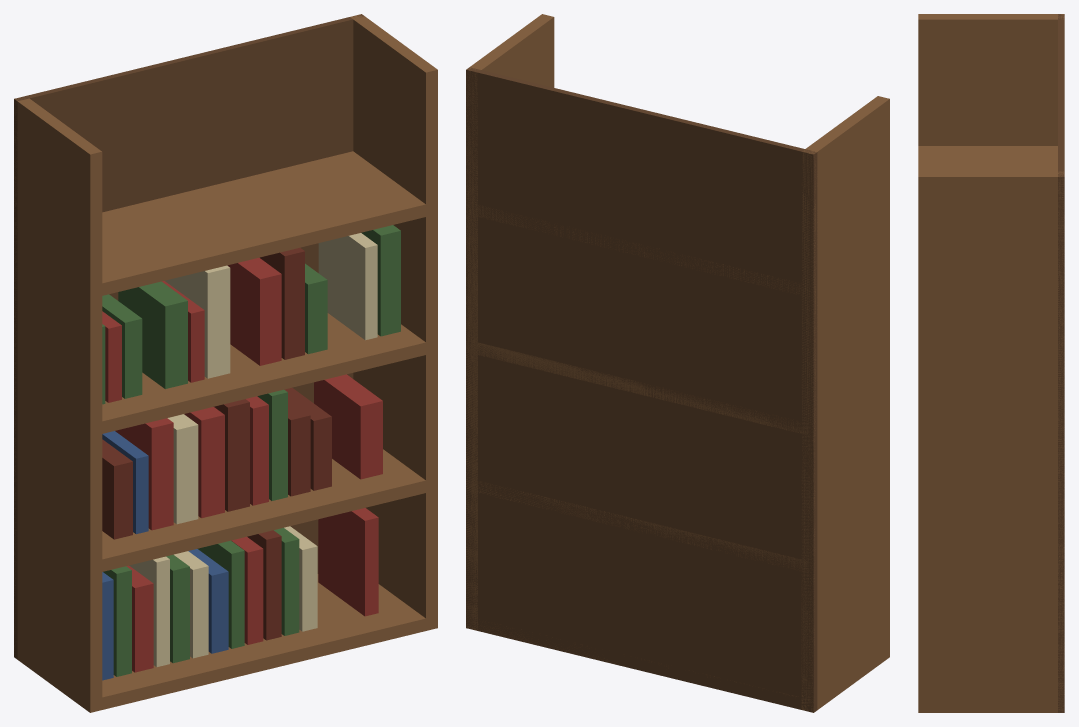
Rendered from SM_Prop_Office_Shelf_01.glb.
3 renders of one model, left to right at view 1: azimuth 30°, elevation 25°; view 2: azimuth 150°, elevation 25°; view 3: azimuth 270°, elevation 25°, orthographic. The views are drawn at different scales.
Visible parts, largest first — view 1: SM_Prop_Office_Shelf_01; view 2: SM_Prop_Office_Shelf_01; view 3: SM_Prop_Office_Shelf_01.
Boxes of the visible parts, left/top/right/bottom form: SM_Prop_Office_Shelf_01: left=14, top=14, right=437, bottom=712; SM_Prop_Office_Shelf_01: left=466, top=14, right=889, bottom=712; SM_Prop_Office_Shelf_01: left=918, top=14, right=1064, bottom=712.
Bounding box in the file's own units: 1.16 × 1.78 × 0.44.
1 material, 1 textured.
